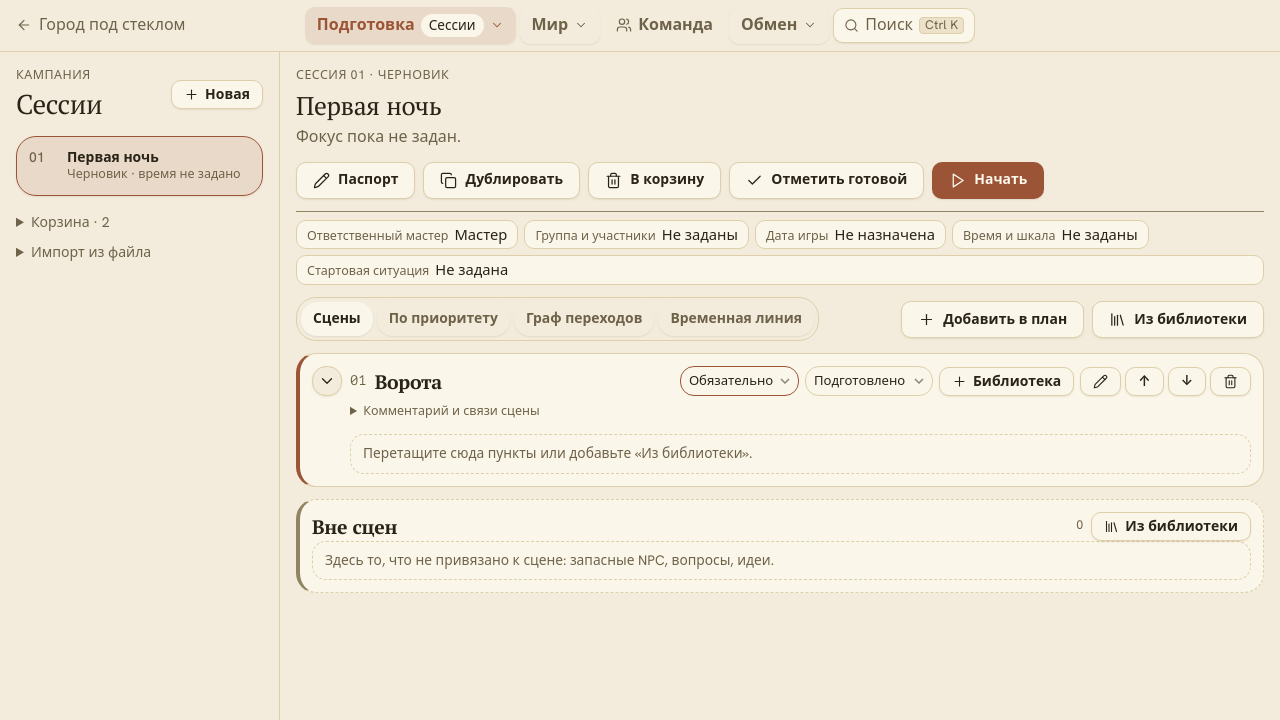
Test: session lifecycle › deletes trashed sessions for good after a confirmation
The width and height of the screenshot is (1280, 720).
Step 1. Click the heading "Корзина · 2" → (70, 222), box x1=31 y1=213 x2=110 y2=231
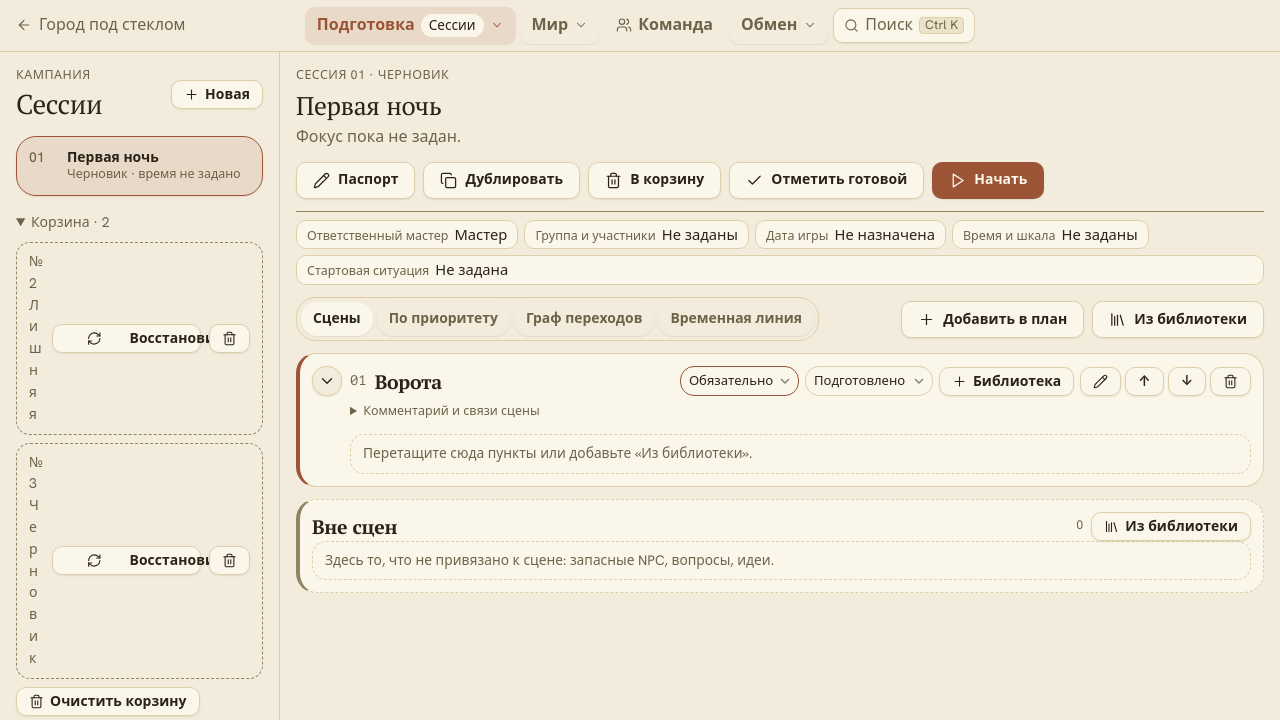
Step 2. Click the button named "Удалить навсегда №2 Лишняя" → (230, 338), box x1=209 y1=324 x2=250 y2=353
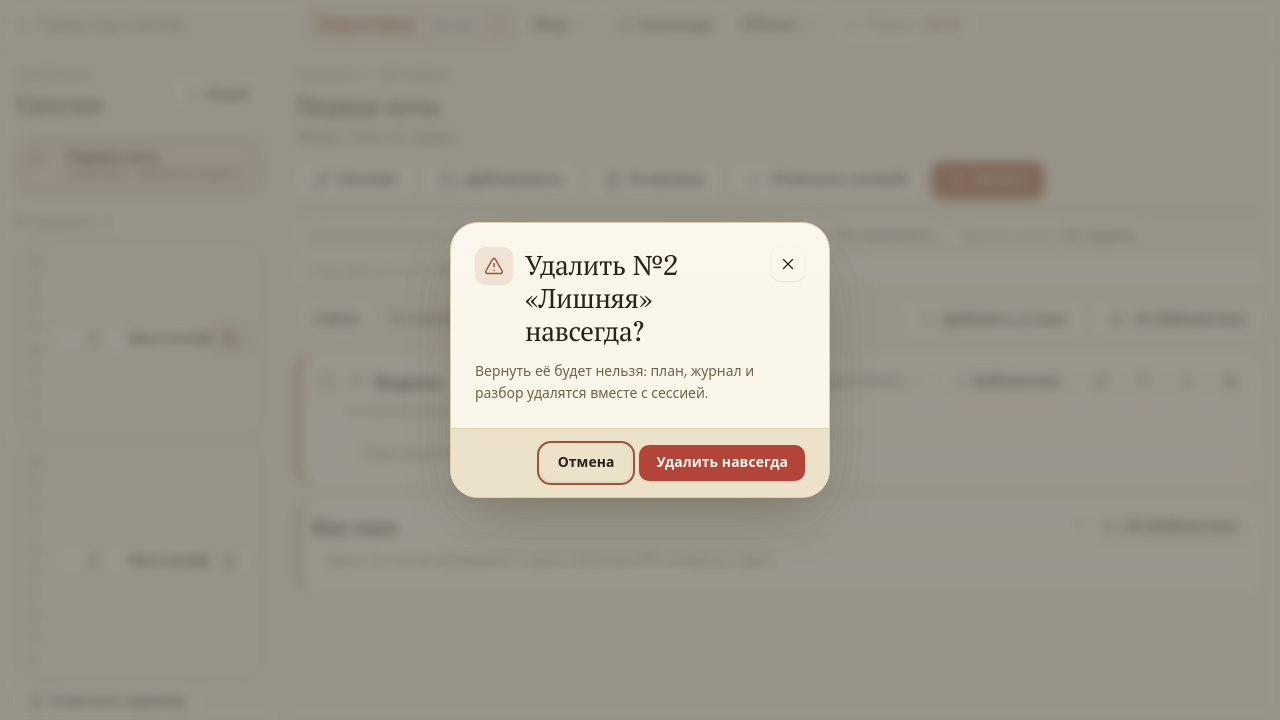
Step 3. Click the button "Удалить навсегда" → (722, 463), box x1=640 y1=445 x2=805 y2=481
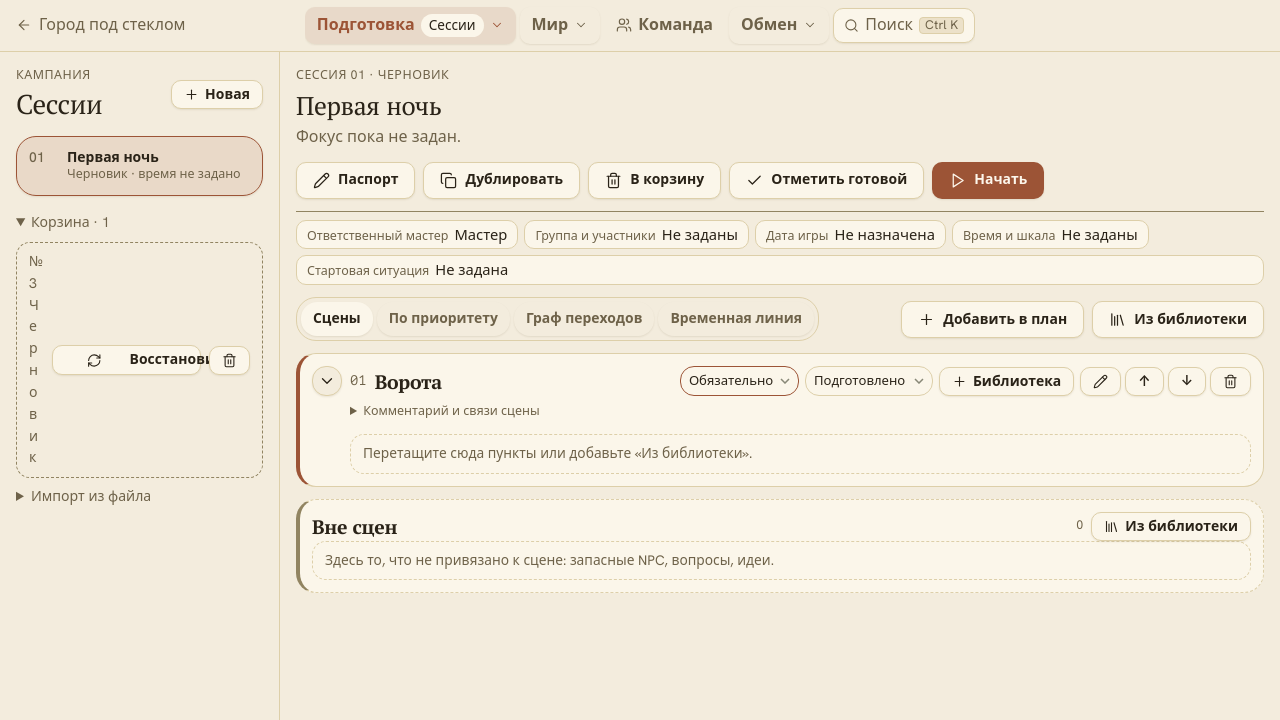
Now the heading "Корзина · 1" is shown, box x1=31 y1=213 x2=110 y2=231
Now the button "Очистить корзину" is gone
